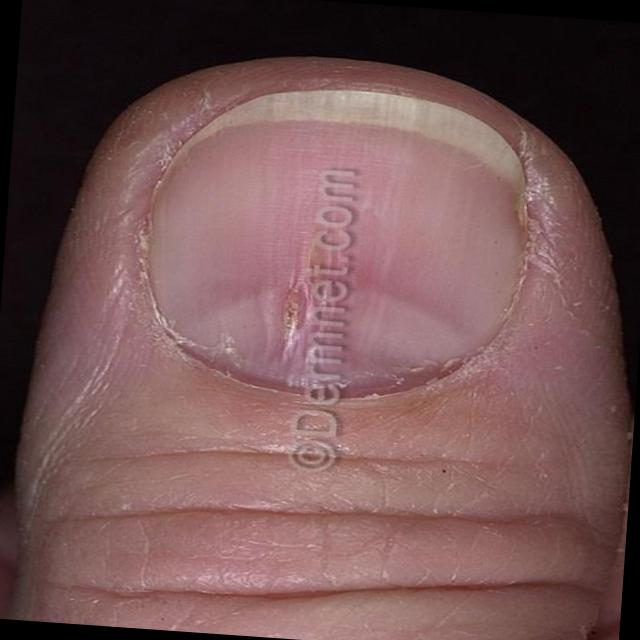Nail: (145, 90, 536, 389)
